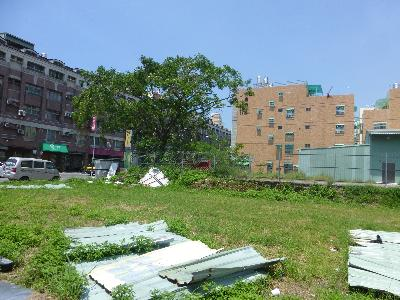water_tower: (262, 75, 269, 85), (256, 75, 262, 85), (392, 82, 399, 89)
